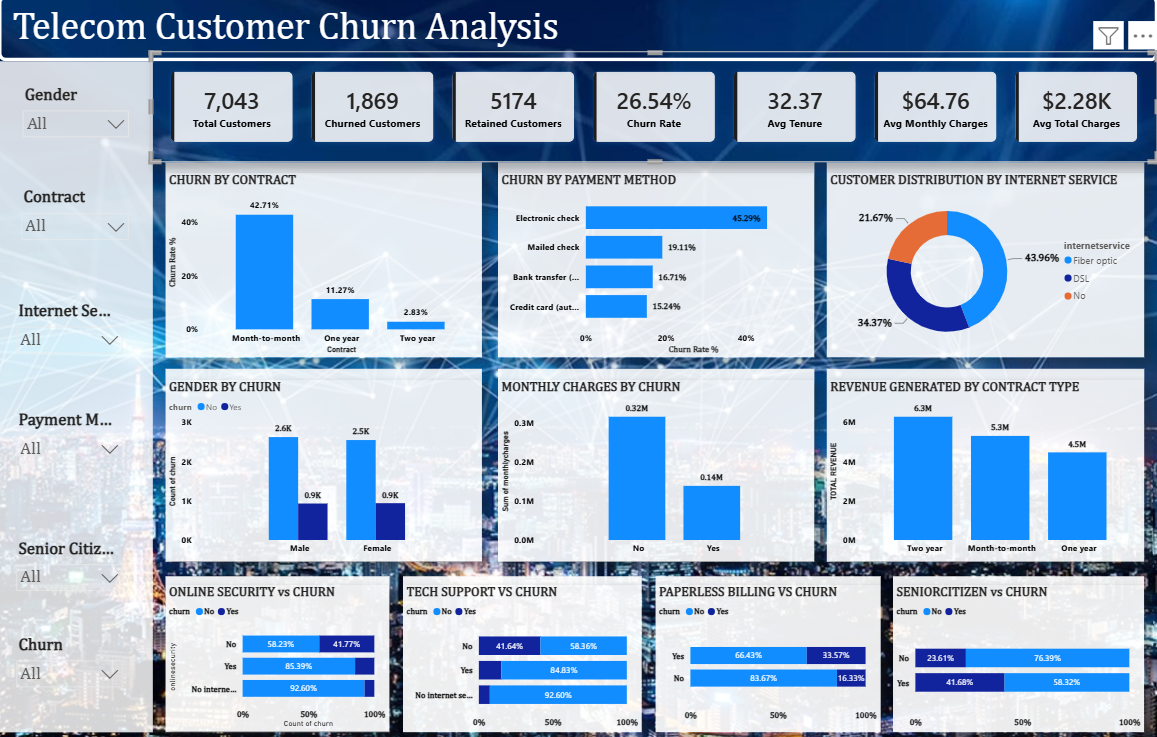

The page's visual inventory and layout, read from the dashboard file:
{"tool":"powerbi","page":{"name":"Page 1","canvas":[1650,1060],"ordinal":0},"visuals":[{"type":"shape","box":[0,0,1650,94.1],"z":0},{"type":"textbox","box":[16,7.1,1568.3,87],"z":1000},{"type":"shape","box":[0,94.1,220.2,953.8],"z":2000},{"type":"cardVisual","fields":{"Data":["telecom_churn.Total Customers","telecom_churn.Churned Customers","telecom_churn.Retained Customers","telecom_churn.Churn Rate","Avg(telecom_churn telco_churn.tenure)","Avg(telecom_churn telco_churn.monthlycharges)","Avg(telecom_churn telco_churn.totalcharges)"]},"box":[217.5,79.3,1432.1,158.5],"z":3000},{"type":"textbox","box":[237.8,237.8,449.7,276.5],"z":4000},{"type":"textbox","box":[1177.8,237.8,451.6,276.5],"z":5000},{"type":"textbox","box":[709.6,237.8,449.7,276.5],"z":6000},{"type":"textbox","box":[237.8,530.8,449.7,274.6],"z":7000},{"type":"textbox","box":[709.6,530.8,449.7,274.6],"z":8000},{"type":"textbox","box":[1177.8,530.8,451.6,274.6],"z":9000},{"type":"clusteredColumnChart","title":"CHURN BY CONTRACT","fields":{"Y":["telecom_churn.Churn Rate"],"Category":["telecom_churn.contract"]},"box":[238,252.2,449.4,262.9],"z":10000},{"type":"slicer","fields":{"Values":["telecom_churn.gender"]},"box":[24.9,124.3,170.5,113.7],"z":11000},{"type":"slicer","fields":{"Values":["telecom_churn.contract"]},"box":[23.1,270,172.3,113.7],"z":12000},{"type":"slicer","fields":{"Values":["telecom_churn.internetservice"]},"box":[16,431.6,170.5,115.4],"z":13000},{"type":"slicer","fields":{"Values":["telecom_churn.paymentmethod"]},"box":[16,586.1,170.5,113.7],"z":14000},{"type":"slicer","fields":{"Values":["telecom_churn.seniorcitizen"]},"box":[16,769.1,170.5,115.4],"z":15000},{"type":"slicer","fields":{"Values":["telecom_churn.churn"]},"box":[16,905.8,170.5,113.7],"z":16000},{"type":"textbox","box":[238.2,826.7,318.1,221.3],"z":17000},{"type":"textbox","box":[574.7,825.2,339.6,221.3],"z":18000},{"type":"textbox","box":[934.3,826.7,319.6,221.3],"z":19000},{"type":"textbox","box":[1272.3,826.7,356.5,221.3],"z":20000},{"type":"clusteredBarChart","title":"CHURN BY PAYMENT METHOD","fields":{"Category":["telecom_churn.paymentmethod"],"Y":["telecom_churn.Churn Rate"]},"box":[710.5,252.2,449.4,262.9],"z":21000},{"type":"donutChart","title":"CUSTOMER DISTRIBUTION BY INTERNET SERVICE","fields":{"Category":["telecom_churn.internetservice"],"Y":["CountNonNull(telecom_churn.internetservice)"]},"box":[1177.6,252.2,451.1,262.9],"z":22000},{"type":"clusteredColumnChart","title":"REVENUE GENERATED BY CONTRACT TYPE","fields":{"Y":["Sum(telecom_churn.totalcharges)"],"Category":["telecom_churn.contract"]},"box":[1177.6,547.1,451.1,257.5],"z":23000},{"type":"clusteredColumnChart","title":"GENDER BY CHURN","fields":{"Category":["telecom_churn.gender"],"Y":["CountNonNull(telecom_churn.churn)"],"Series":["telecom_churn.churn"]},"box":[238,547.1,449.4,257.5],"z":24000},{"type":"columnChart","title":"MONTHLY CHARGES BY CHURN","fields":{"Y":["Sum(telecom_churn.monthlycharges)"],"Category":["telecom_churn.churn"]},"box":[710.5,547.1,449.4,257.5],"z":25000},{"type":"hundredPercentStackedBarChart","title":"ONLINE SECURITY vs CHURN","fields":{"Category":["telecom_churn.onlinesecurity"],"Series":["telecom_churn.churn"],"Y":["CountNonNull(telecom_churn.churn)"]},"box":[238,838.3,317.9,207.8],"z":26000},{"type":"hundredPercentStackedBarChart","title":"TECH SUPPORT VS CHURN","fields":{"Category":["telecom_churn.techsupport"],"Series":["telecom_churn.churn"],"Y":["CountNonNull(telecom_churn.churn)"]},"box":[575.5,838.3,339.2,209.6],"z":27000},{"type":"hundredPercentStackedBarChart","title":"PAPERLESS BILLING VS CHURN","fields":{"Series":["telecom_churn.churn"],"Y":["CountNonNull(telecom_churn.churn)"],"Category":["telecom_churn.paperlessbilling"]},"box":[934.3,838.3,319.7,209.6],"z":28000},{"type":"hundredPercentStackedBarChart","title":"SENIORCITIZEN vs CHURN","fields":{"Y":["CountNonNull(telecom_churn.churn)"],"Series":["telecom_churn.churn"],"Category":["telecom_churn.Senior Citizen Status"]},"box":[1271.7,838.3,357,209.6],"z":29000}]}

Visuals, with their boxes in screenshot pixels (x1, y1, x2, y2), scaled from the page's 1650x1060 canvas onto the 1157x737 screenshot:
shape: <bbox>0, 0, 1156, 65</bbox>
textbox: <bbox>11, 5, 1111, 65</bbox>
shape: <bbox>0, 65, 154, 729</bbox>
cardVisual - telecom_churn.Total Customers x telecom_churn.Churned Customers: <bbox>153, 55, 1156, 165</bbox>
textbox: <bbox>167, 165, 482, 358</bbox>
textbox: <bbox>826, 165, 1143, 358</bbox>
textbox: <bbox>498, 165, 813, 358</bbox>
textbox: <bbox>167, 369, 482, 560</bbox>
textbox: <bbox>498, 369, 813, 560</bbox>
textbox: <bbox>826, 369, 1143, 560</bbox>
"CHURN BY CONTRACT" clusteredColumnChart: <bbox>167, 175, 482, 358</bbox>
slicer - telecom_churn.gender: <bbox>17, 86, 137, 165</bbox>
slicer - telecom_churn.contract: <bbox>16, 188, 137, 267</bbox>
slicer - telecom_churn.internetservice: <bbox>11, 300, 131, 380</bbox>
slicer - telecom_churn.paymentmethod: <bbox>11, 408, 131, 487</bbox>
slicer - telecom_churn.seniorcitizen: <bbox>11, 535, 131, 615</bbox>
slicer - telecom_churn.churn: <bbox>11, 630, 131, 709</bbox>
textbox: <bbox>167, 575, 390, 729</bbox>
textbox: <bbox>403, 574, 641, 728</bbox>
textbox: <bbox>655, 575, 879, 729</bbox>
textbox: <bbox>892, 575, 1142, 729</bbox>
"CHURN BY PAYMENT METHOD" clusteredBarChart: <bbox>498, 175, 813, 358</bbox>
"CUSTOMER DISTRIBUTION BY INTERNET SERVICE" donutChart: <bbox>826, 175, 1142, 358</bbox>
"REVENUE GENERATED BY CONTRACT TYPE" clusteredColumnChart: <bbox>826, 380, 1142, 559</bbox>
"GENDER BY CHURN" clusteredColumnChart: <bbox>167, 380, 482, 559</bbox>
"MONTHLY CHARGES BY CHURN" columnChart: <bbox>498, 380, 813, 559</bbox>
"ONLINE SECURITY vs CHURN" hundredPercentStackedBarChart: <bbox>167, 583, 390, 727</bbox>
"TECH SUPPORT VS CHURN" hundredPercentStackedBarChart: <bbox>404, 583, 641, 729</bbox>
"PAPERLESS BILLING VS CHURN" hundredPercentStackedBarChart: <bbox>655, 583, 879, 729</bbox>
"SENIORCITIZEN vs CHURN" hundredPercentStackedBarChart: <bbox>892, 583, 1142, 729</bbox>
